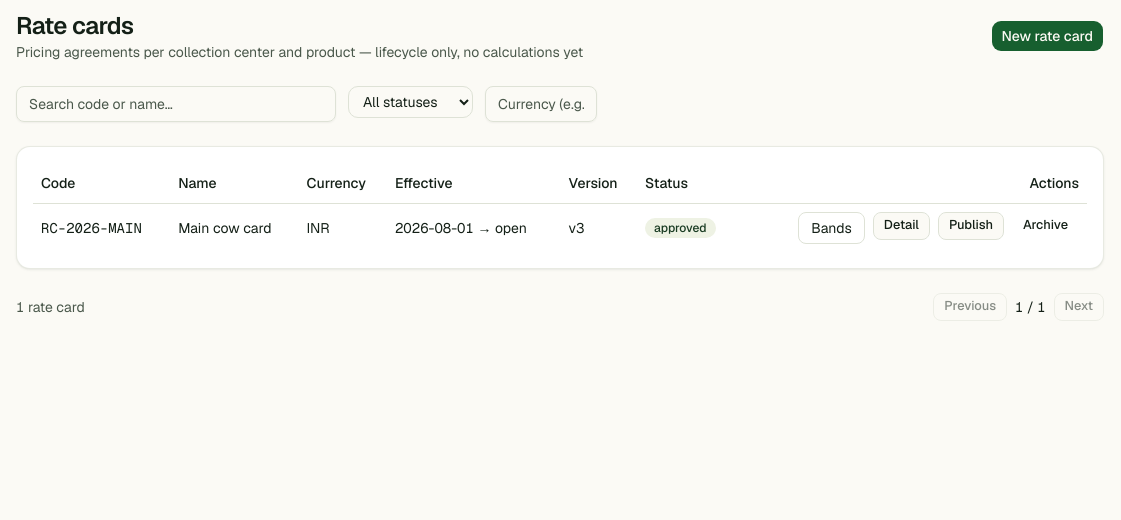
Test: rate-card publish/archive discipline › a platform refusal is shown verbatim and the choice stays open
Step 1. Click the button "Publish" → (971, 226), box x1=938 y1=212 x2=1004 y2=240
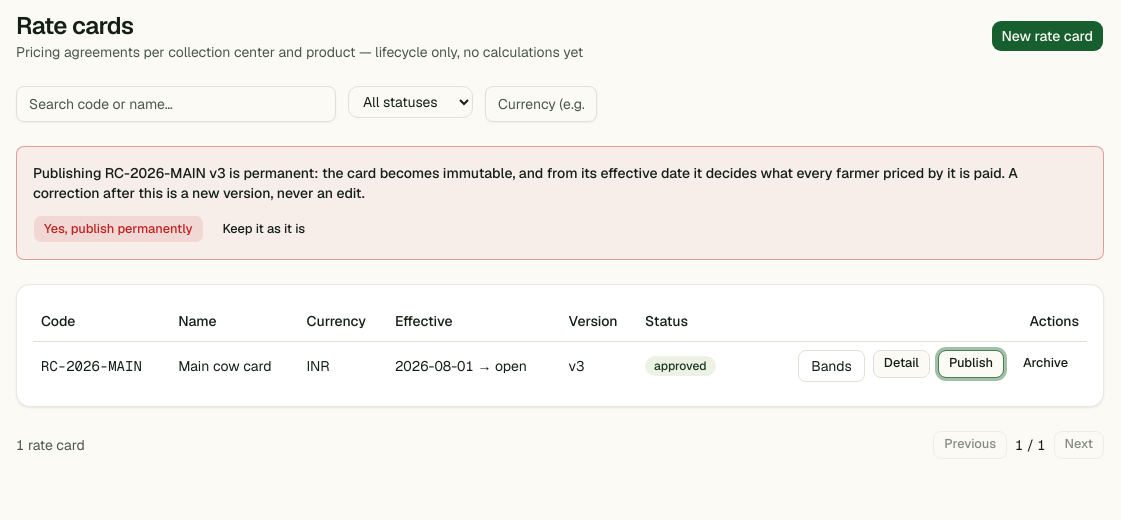
Step 2. Click the button "Yes, publish permanently" → (118, 229), box x1=33 y1=215 x2=204 y2=243
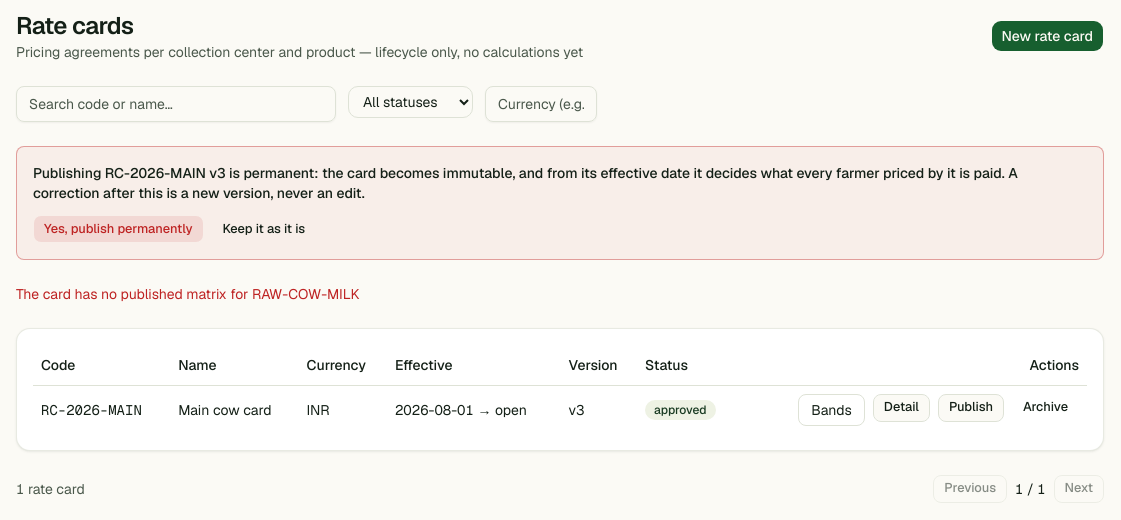
Check: the button "Yes, publish permanently" is shown, box x1=33 y1=215 x2=204 y2=243
Check: the text "The card has no published matrix for RAW-COW-MILK" is shown, box x1=16 y1=285 x2=359 y2=303
